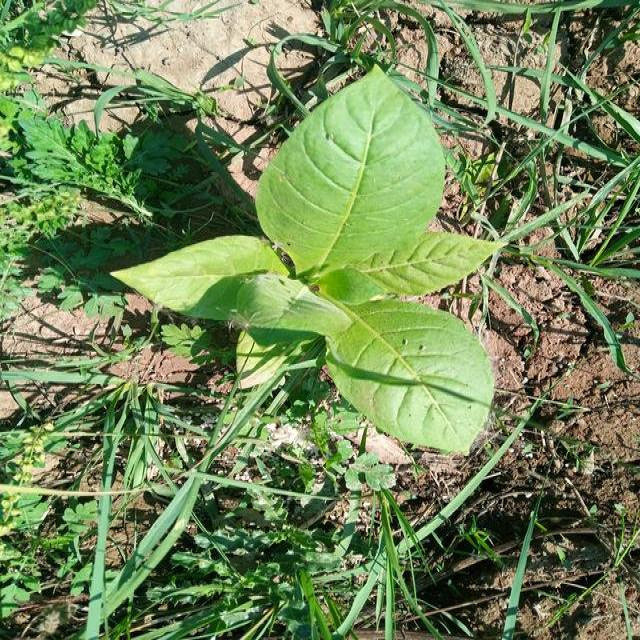crop: (105, 57, 507, 457)
